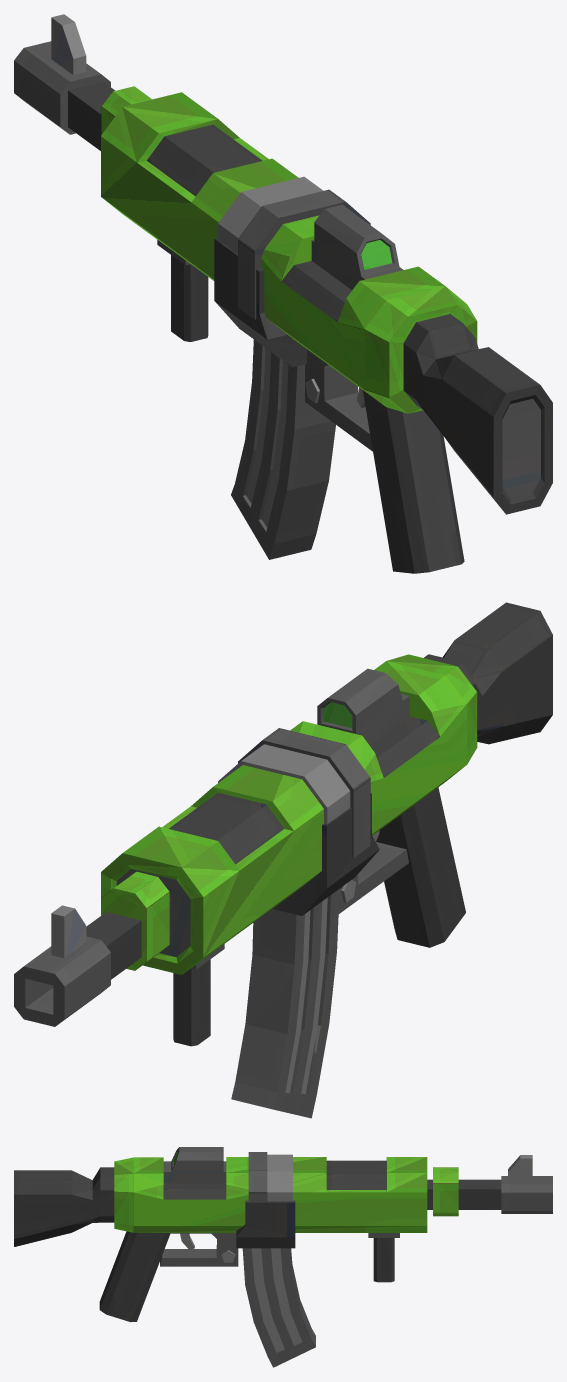
The model's file is assault_rifle_00.glb.
The picture shows the model from 3 angles, top to bottom: view 1: azimuth 30°, elevation 25°; view 2: azimuth 150°, elevation 25°; view 3: azimuth 270°, elevation 25°; orthographic projection. The views are drawn at different scales.
Visible parts, largest first — view 1: assault_rifle_00_weapon, assault_rifle_00_mag, assault_rifle_00_scope, assault_rifle_00_grip; view 2: assault_rifle_00_weapon, assault_rifle_00_mag, assault_rifle_00_scope, assault_rifle_00_grip; view 3: assault_rifle_00_weapon, assault_rifle_00_mag, assault_rifle_00_scope, assault_rifle_00_grip.
Part boxes in pixels (bbox=[...]): assault_rifle_00_weapon: bbox=[14, 14, 552, 573]; assault_rifle_00_mag: bbox=[231, 339, 335, 559]; assault_rifle_00_scope: bbox=[311, 204, 403, 289]; assault_rifle_00_grip: bbox=[157, 240, 208, 341]; assault_rifle_00_weapon: bbox=[14, 602, 552, 1026]; assault_rifle_00_mag: bbox=[231, 889, 339, 1118]; assault_rifle_00_scope: bbox=[317, 668, 409, 745]; assault_rifle_00_grip: bbox=[173, 944, 224, 1046]; assault_rifle_00_weapon: bbox=[14, 1152, 552, 1322]; assault_rifle_00_mag: bbox=[242, 1248, 315, 1367]; assault_rifle_00_scope: bbox=[163, 1147, 226, 1183]; assault_rifle_00_grip: bbox=[368, 1233, 399, 1282].
Size of the model in its own units: 0.3748 by 1.17 by 2.69.
1 material, 1 textured.
